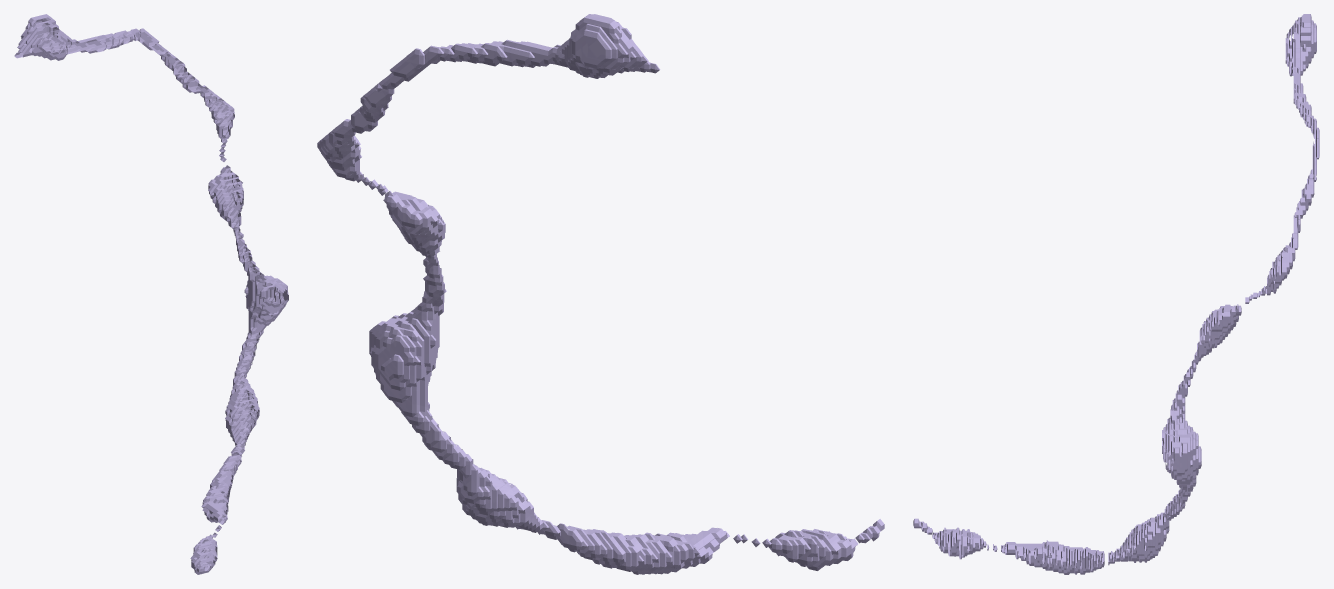
File: SVV_AIMR.gltf
3 renders of one model, left to right at view 1: azimuth 30°, elevation 25°; view 2: azimuth 150°, elevation 25°; view 3: azimuth 270°, elevation 25°, orthographic. The views are drawn at different scales.
Visible parts, largest first — view 1: AIMR; view 2: AIMR; view 3: AIMR.
Boxes of the visible parts, x1,y1,x2,y2 form: AIMR: [14, 14, 288, 574]; AIMR: [317, 14, 884, 574]; AIMR: [913, 14, 1319, 574].
Size of the model in its own units: 43523 by 83498 by 58126.
